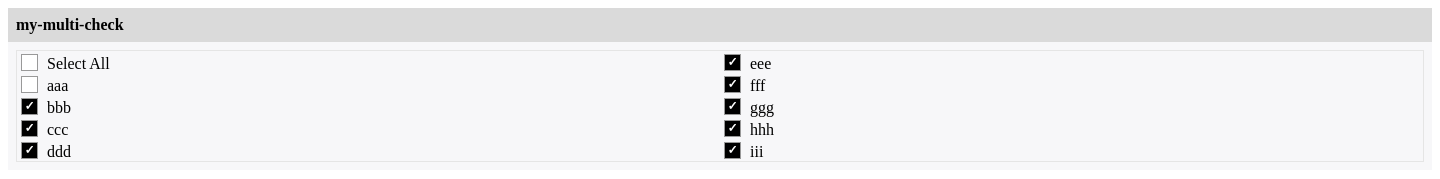
Test case: MultiCheck › status changed › simulate checked item changed
Expected: the checkbox labelled "Select All" is not checked, [21,54,36,69]
Click the checkbox labelled "aaa" at (28, 84), box [21,76,36,91]
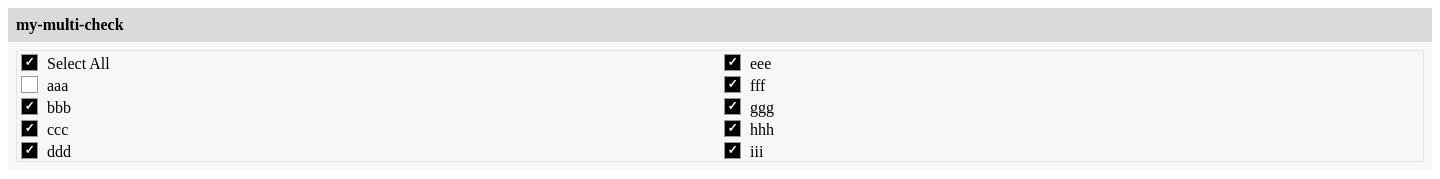
Expected: the checkbox labelled "Select All" is checked, [21,54,36,69]
